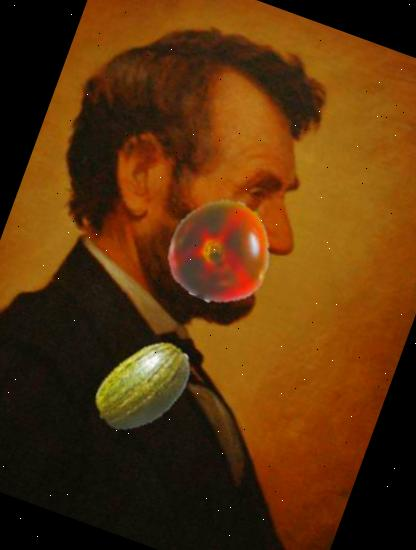Melon: (76, 319, 212, 456)
Tomato: (153, 183, 289, 319)
